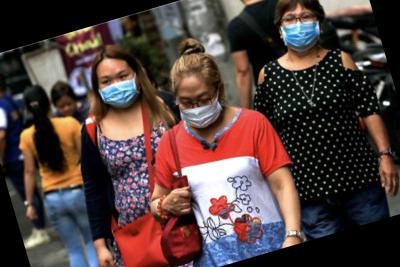with_mask: (174, 83, 229, 134), (94, 63, 146, 113), (277, 4, 327, 56)
without_mask: (55, 98, 79, 120)
